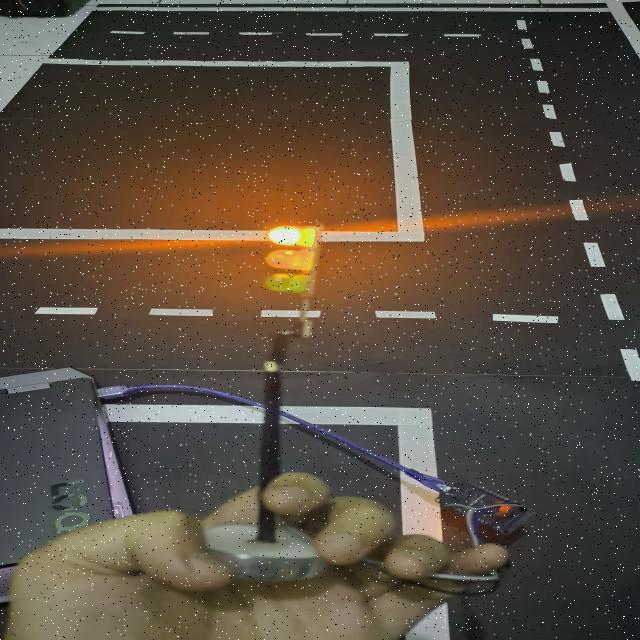Lampu Merah: (262, 224, 320, 298)
